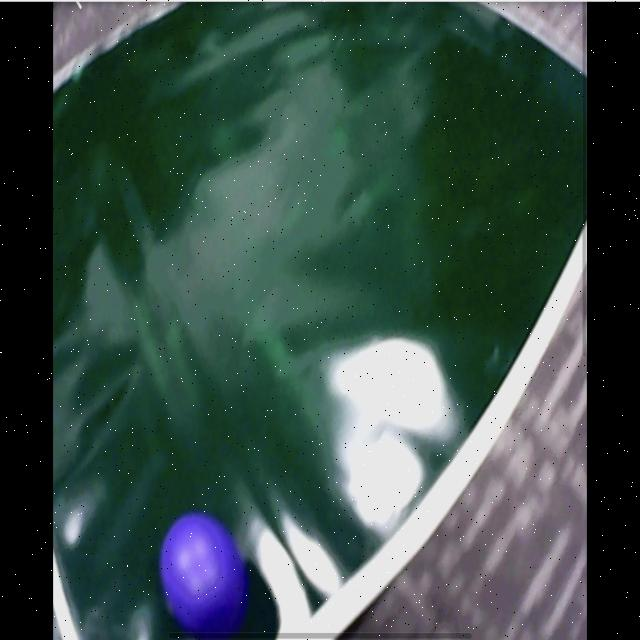ball: (159, 515, 243, 628)
